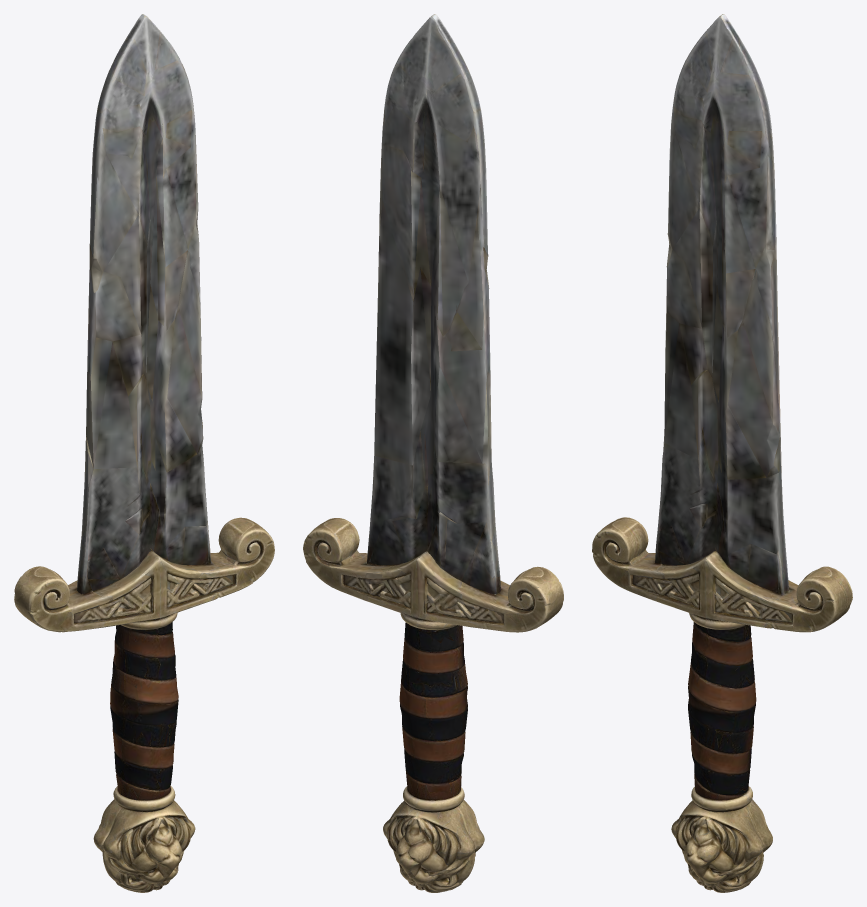
File: broadsword.glb
3 renders of one model, left to right at view 1: azimuth 30°, elevation 25°; view 2: azimuth 150°, elevation 25°; view 3: azimuth 330°, elevation 25°, orthographic.
Visible parts, largest first — view 1: Mesh_0; view 2: Mesh_0; view 3: Mesh_0.
Part boxes in pixels (x1=…): Mesh_0: x1=14, y1=14, x2=274, y2=892; Mesh_0: x1=303, y1=14, x2=563, y2=892; Mesh_0: x1=592, y1=14, x2=852, y2=892.
Bounding box in the file's own units: 0.3107 × 1.05 × 0.1297.
1 material, 1 textured.
